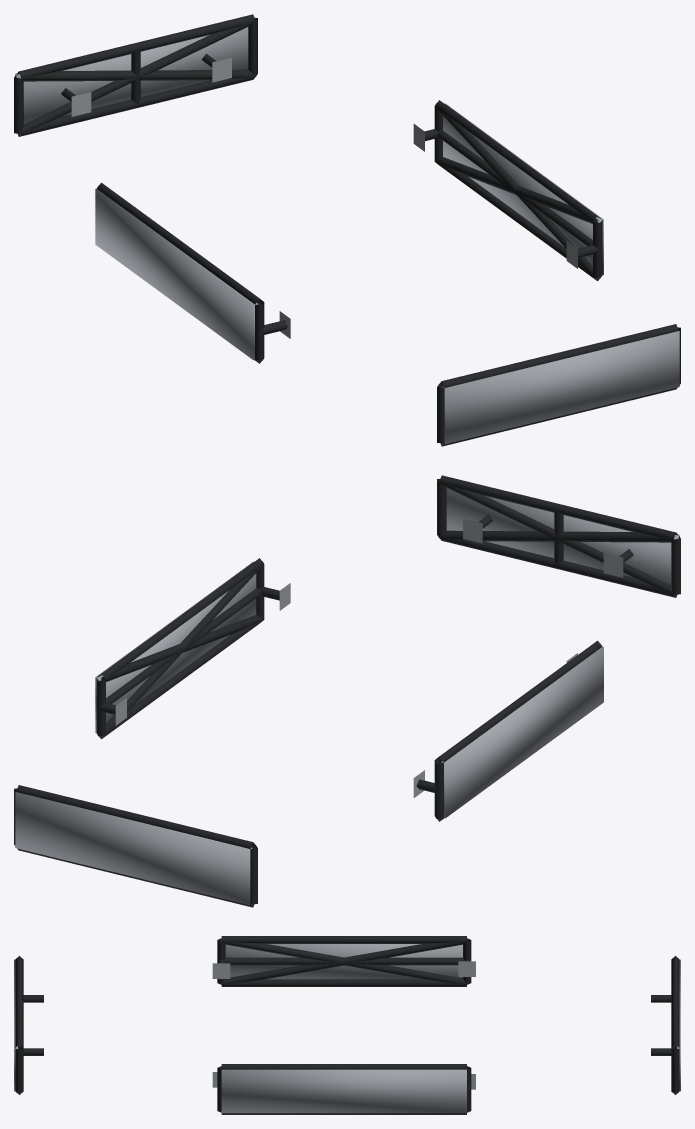
File: vallon_ramo_protecao.glb
3 renders of one model, top to bottom at view 1: azimuth 30°, elevation 25°; view 2: azimuth 150°, elevation 25°; view 3: azimuth 270°, elevation 25°, orthographic. The views are drawn at different scales.
Visible parts, largest first — view 1: Protection_front_Level3_Details, Protection_left_Level3_Details, Protection_rear_Level1_Details, Protection_rear_Level3_Details, Protection_right_Level1_Details, Protection_rear_Level2_Details, Protection_right_Level2_Details, Protection_right_Level3_Details, Protection_front_Level1_Details, Protection_left_Level1_Details; view 2: Protection_rear_Level3_Details, Protection_left_Level3_Details, Protection_front_Level1_Details, Protection_front_Level3_Details, Protection_right_Level1_Details, Protection_front_Level2_Details, Protection_right_Level2_Details, Protection_right_Level3_Details, Protection_rear_Level1_Details, Protection_left_Level1_Details; view 3: Protection_right_Level3_Details, Protection_left_Level2_Details, Protection_left_Level1_Details, Protection_left_Level3_Details, Protection_right_Level1_Details, Protection_rear_Level1_Details, Protection_front_Level1_Details.
Part boxes in pixels (box(x1,y1,x2,y2)): Protection_front_Level3_Details: box(442, 331, 679, 444); Protection_left_Level3_Details: box(95, 188, 257, 360); Protection_rear_Level1_Details: box(14, 14, 257, 136); Protection_rear_Level3_Details: box(15, 27, 248, 124); Protection_right_Level1_Details: box(413, 100, 602, 281); Protection_rear_Level2_Details: box(16, 21, 255, 135); Protection_right_Level2_Details: box(435, 107, 601, 280); Protection_right_Level3_Details: box(443, 103, 603, 274); Protection_front_Level1_Details: box(437, 324, 680, 446); Protection_left_Level1_Details: box(96, 182, 290, 363); Protection_rear_Level3_Details: box(15, 792, 252, 905); Protection_left_Level3_Details: box(441, 646, 603, 818); Protection_front_Level1_Details: box(437, 475, 680, 597); Protection_front_Level3_Details: box(446, 488, 679, 585); Protection_right_Level1_Details: box(96, 558, 290, 739); Protection_front_Level2_Details: box(439, 482, 678, 596); Protection_right_Level2_Details: box(97, 565, 263, 738); Protection_right_Level3_Details: box(95, 561, 256, 733); Protection_rear_Level1_Details: box(14, 785, 257, 907); Protection_left_Level1_Details: box(413, 640, 602, 821); Protection_right_Level3_Details: box(221, 1069, 466, 1113); Protection_left_Level2_Details: box(221, 938, 467, 984); Protection_left_Level1_Details: box(212, 936, 475, 986); Protection_left_Level3_Details: box(225, 944, 462, 979); Protection_right_Level1_Details: box(212, 1064, 475, 1114); Protection_rear_Level1_Details: box(651, 956, 679, 1094); Protection_front_Level1_Details: box(15, 956, 43, 1094).
Bounding box in the file's own units: 1.98 × 0.354 × 4.21.
Materials: 1 (1 with a texture image).
